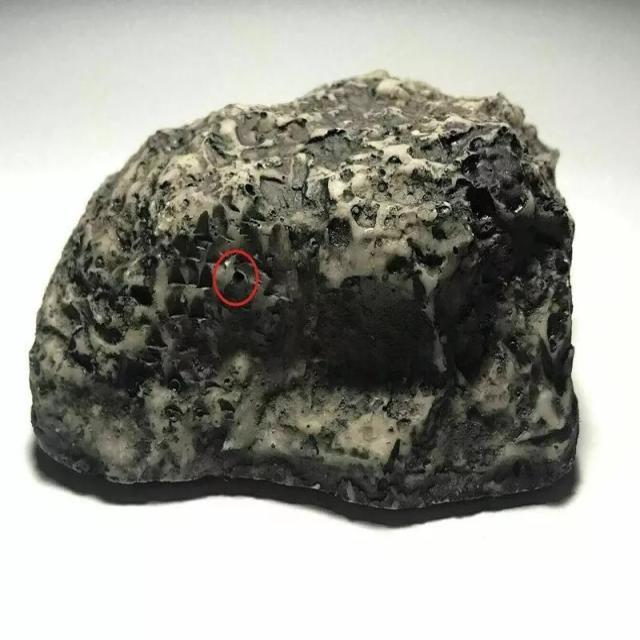hidden camera: (232, 270, 246, 283)
